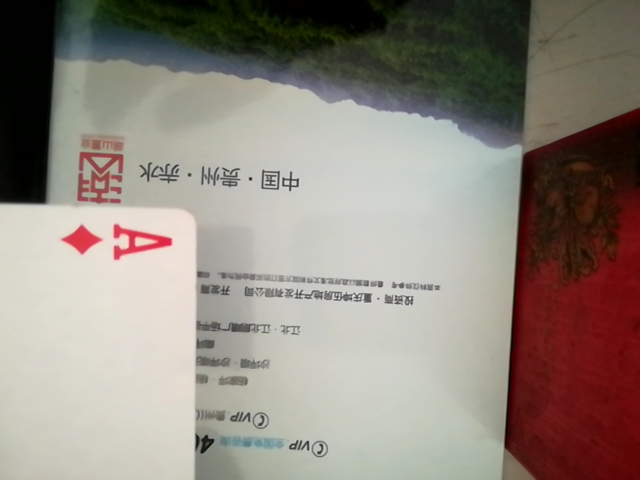fk a: (0, 195, 211, 476)
